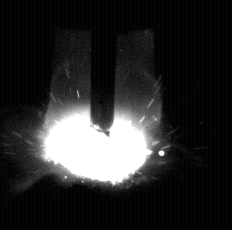arame: (91, 0, 116, 136)
poca: (40, 0, 161, 230)
